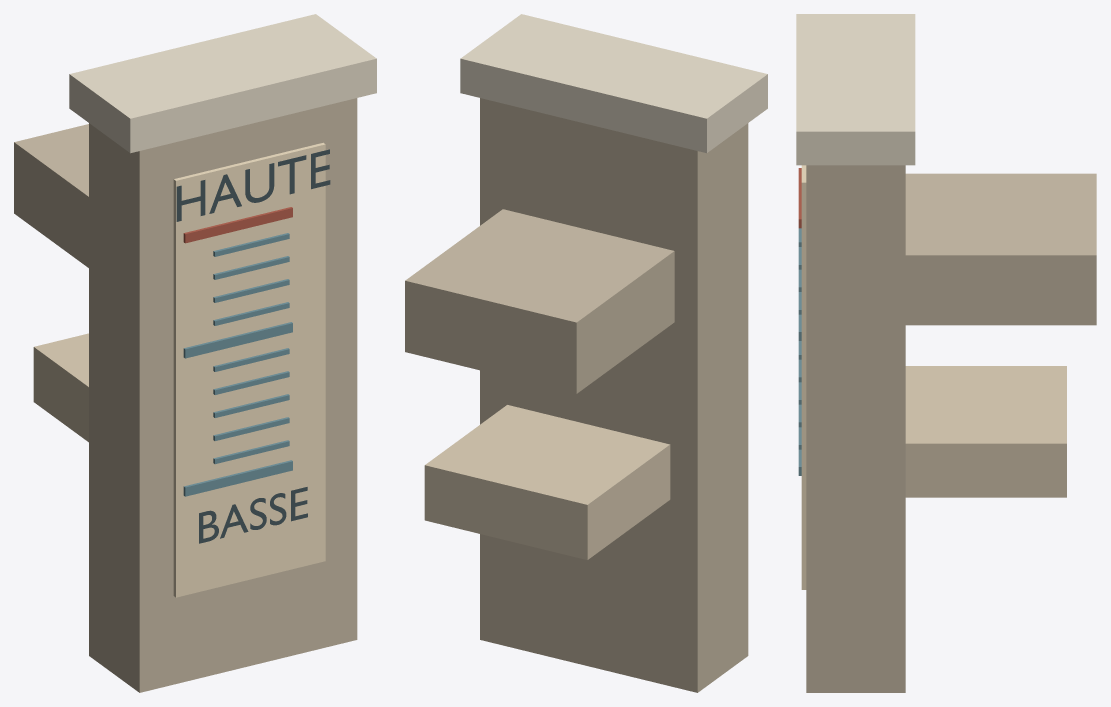
The model's file is echelle_maree_quai.glb.
The picture shows the model from 3 angles, left to right: view 1: azimuth 30°, elevation 25°; view 2: azimuth 150°, elevation 25°; view 3: azimuth 270°, elevation 25°; orthographic projection. The views are drawn at different scales.
Parts seen in each view (by area): view 1: Pierre de jauge, Bande peinte, Tête chanfreinée, Patte scellée dans le quai, Patte basse de la jauge, Repère haut, Repère bas, Trait de marée, Trait de marée.011, Trait de marée.006; view 2: Pierre de jauge, Patte scellée dans le quai, Patte basse de la jauge, Tête chanfreinée; view 3: Pierre de jauge, Patte scellée dans le quai, Patte basse de la jauge, Tête chanfreinée, Bande peinte.
Boxes of the visible parts, <box> form: Pierre de jauge: <box>89,98,357,692</box>; Bande peinte: <box>173,142,325,597</box>; Tête chanfreinée: <box>69,14,376,153</box>; Patte scellée dans le quai: <box>14,124,88,267</box>; Patte basse de la jauge: <box>33,333,88,442</box>; Repère haut: <box>176,149,330,221</box>; Repère bas: <box>199,487,307,543</box>; Trait de marée: <box>183,460,292,496</box>; Trait de marée.011: <box>183,207,292,243</box>; Trait de marée.006: <box>183,322,292,358</box>; Pierre de jauge: <box>480,98,748,692</box>; Patte scellée dans le quai: <box>405,209,674,393</box>; Patte basse de la jauge: <box>424,405,670,559</box>; Tête chanfreinée: <box>460,14,767,153</box>; Pierre de jauge: <box>806,165,905,692</box>; Patte scellée dans le quai: <box>905,173,1096,325</box>; Patte basse de la jauge: <box>905,366,1066,497</box>; Tête chanfreinée: <box>796,14,915,165</box>; Bande peinte: <box>801,165,806,589</box>.
Bounding box in the file's own units: 1.12 × 2.53 × 1.21.
